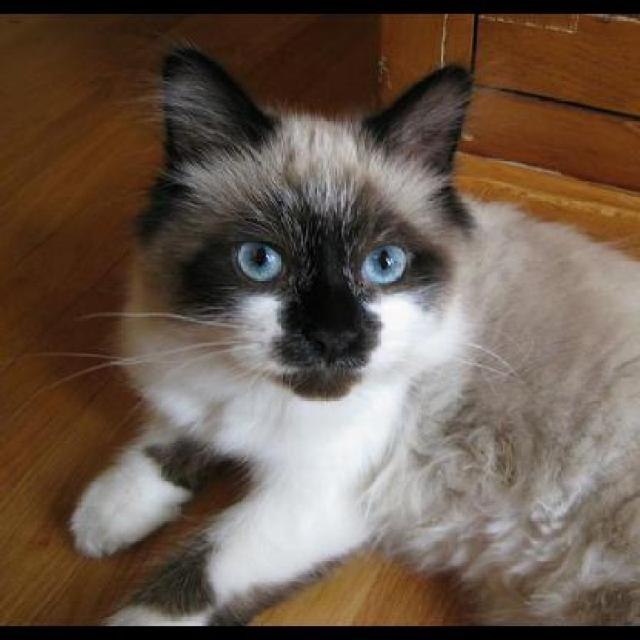unauthorized: (29, 39, 638, 626)
